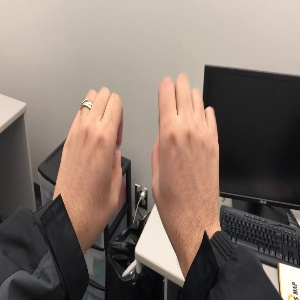hand: (152, 74, 220, 223), (56, 88, 123, 225)
